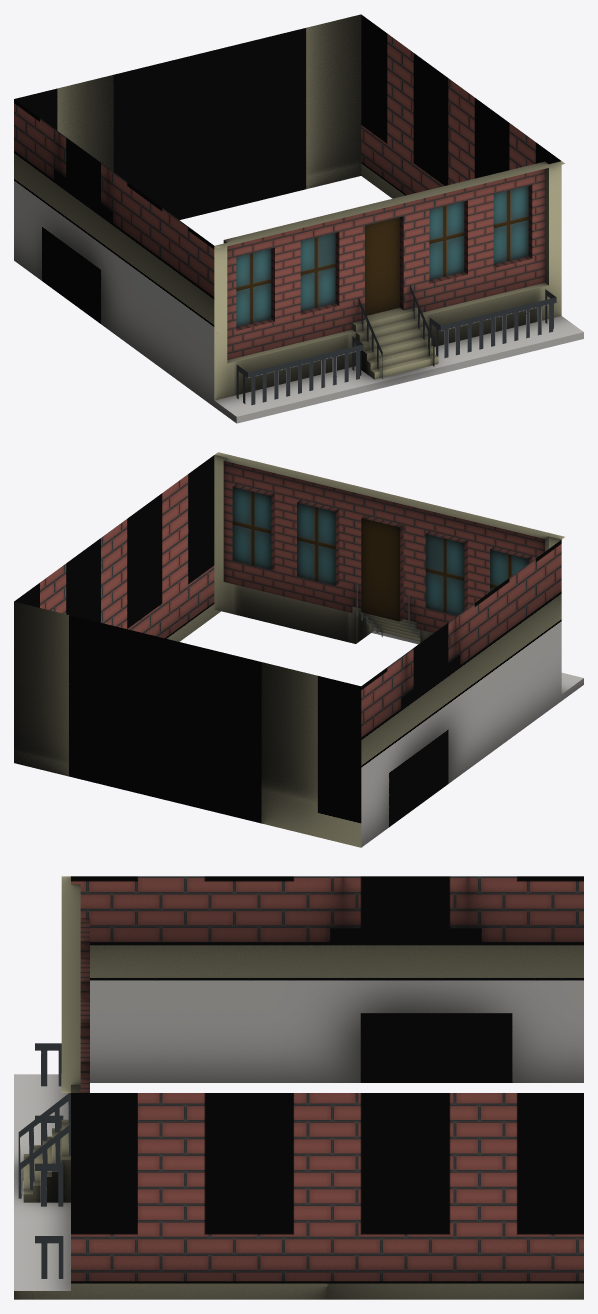
File: building middle ground.fbx
3 views of the same model, one above another, from view 1: azimuth 30°, elevation 25°; view 2: azimuth 150°, elevation 25°; view 3: azimuth 270°, elevation 25° (orthographic). The views are drawn at different scales.
Visible parts, largest first — view 1: Building Middle Ground; view 2: Building Middle Ground; view 3: Building Middle Ground.
Part boxes in pixels (x1,y1,x2,y2): Building Middle Ground: [14, 14, 583, 423]; Building Middle Ground: [14, 452, 583, 847]; Building Middle Ground: [14, 876, 583, 1299].
Bounding box in the file's own units: 540 × 240 × 600.
